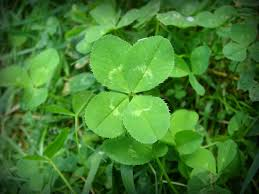clover: (82, 32, 176, 144)
